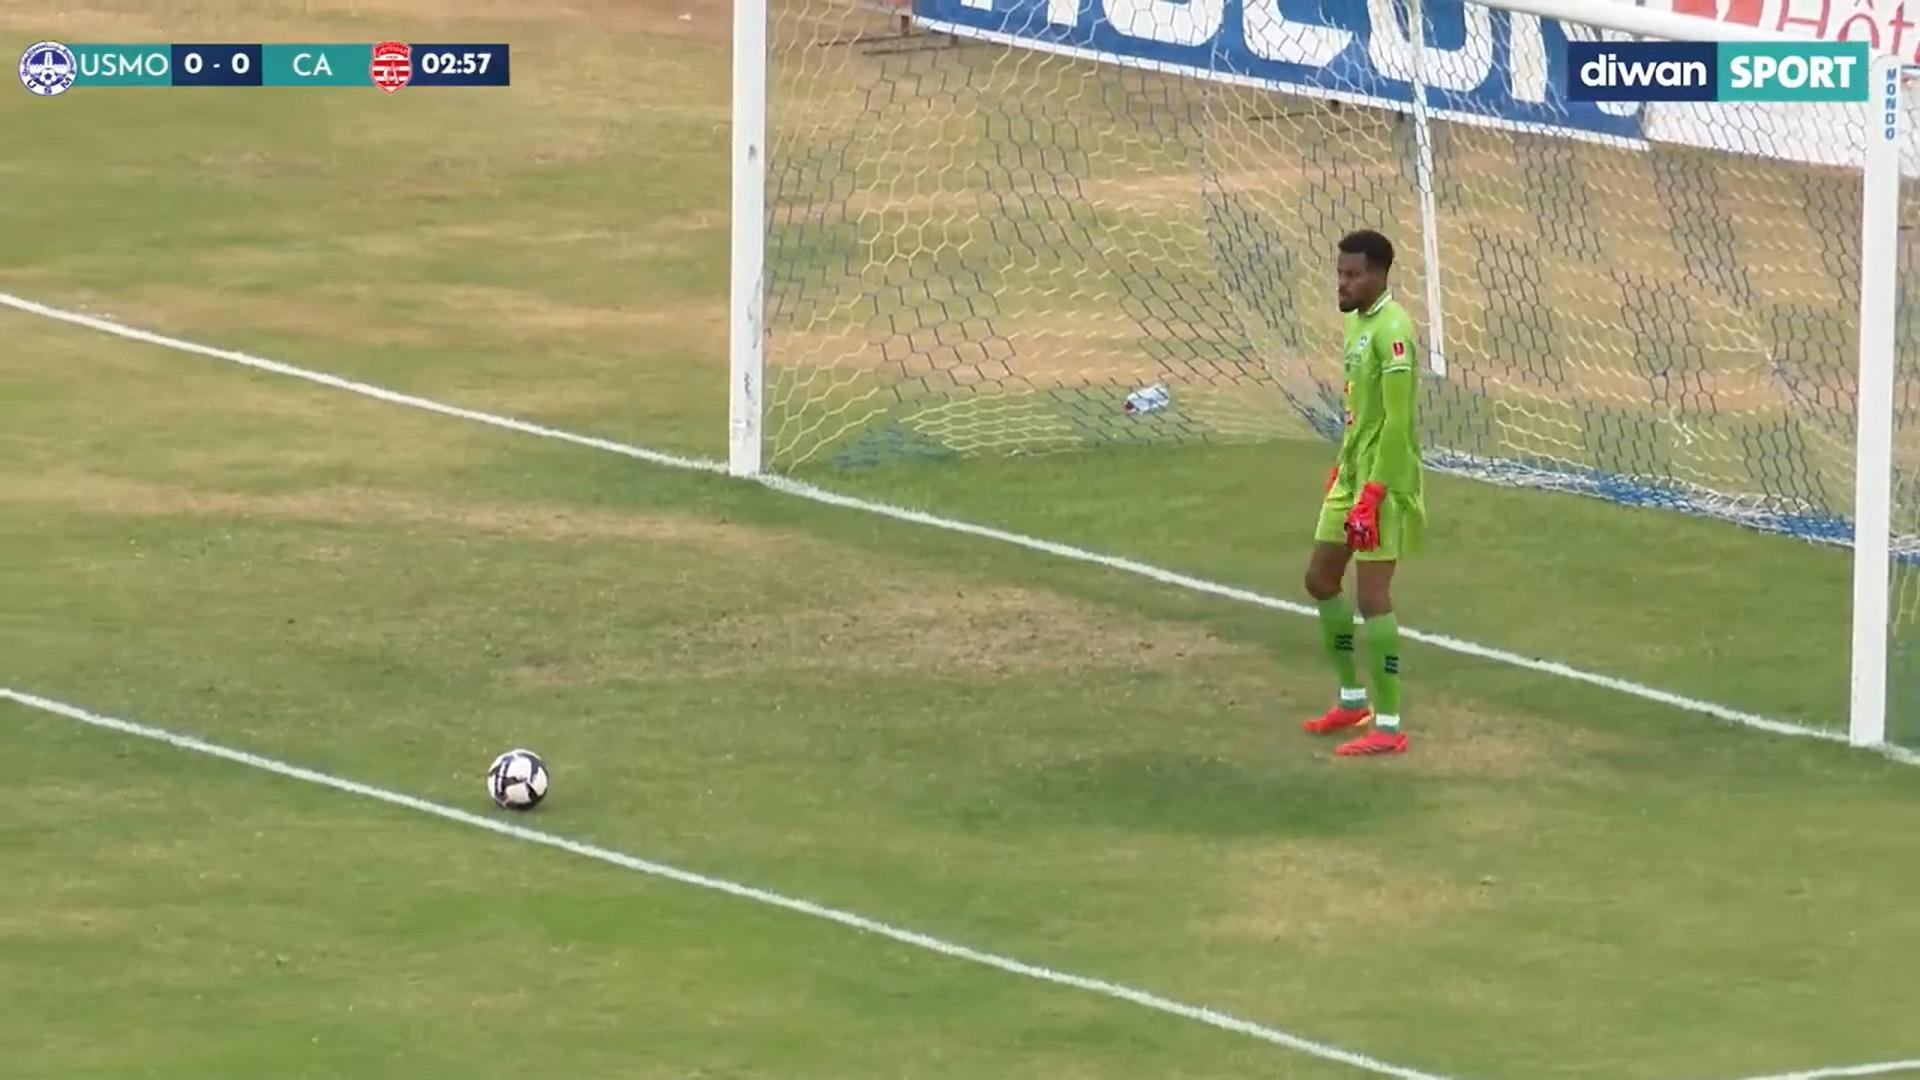ball: (451, 735, 583, 837)
goalkeeper: (1263, 211, 1466, 761)
